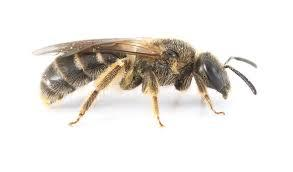Lasioglossum: (23, 31, 258, 130)
